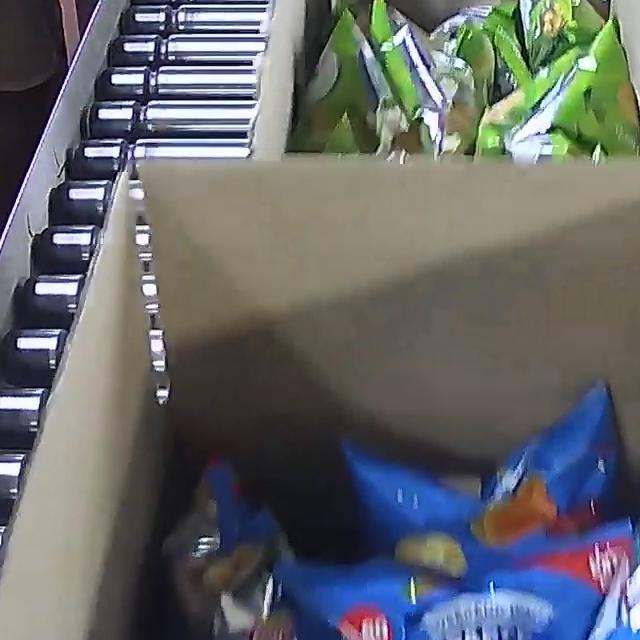paprika: (131, 379, 640, 640)
yogurt: (288, 0, 640, 164)
